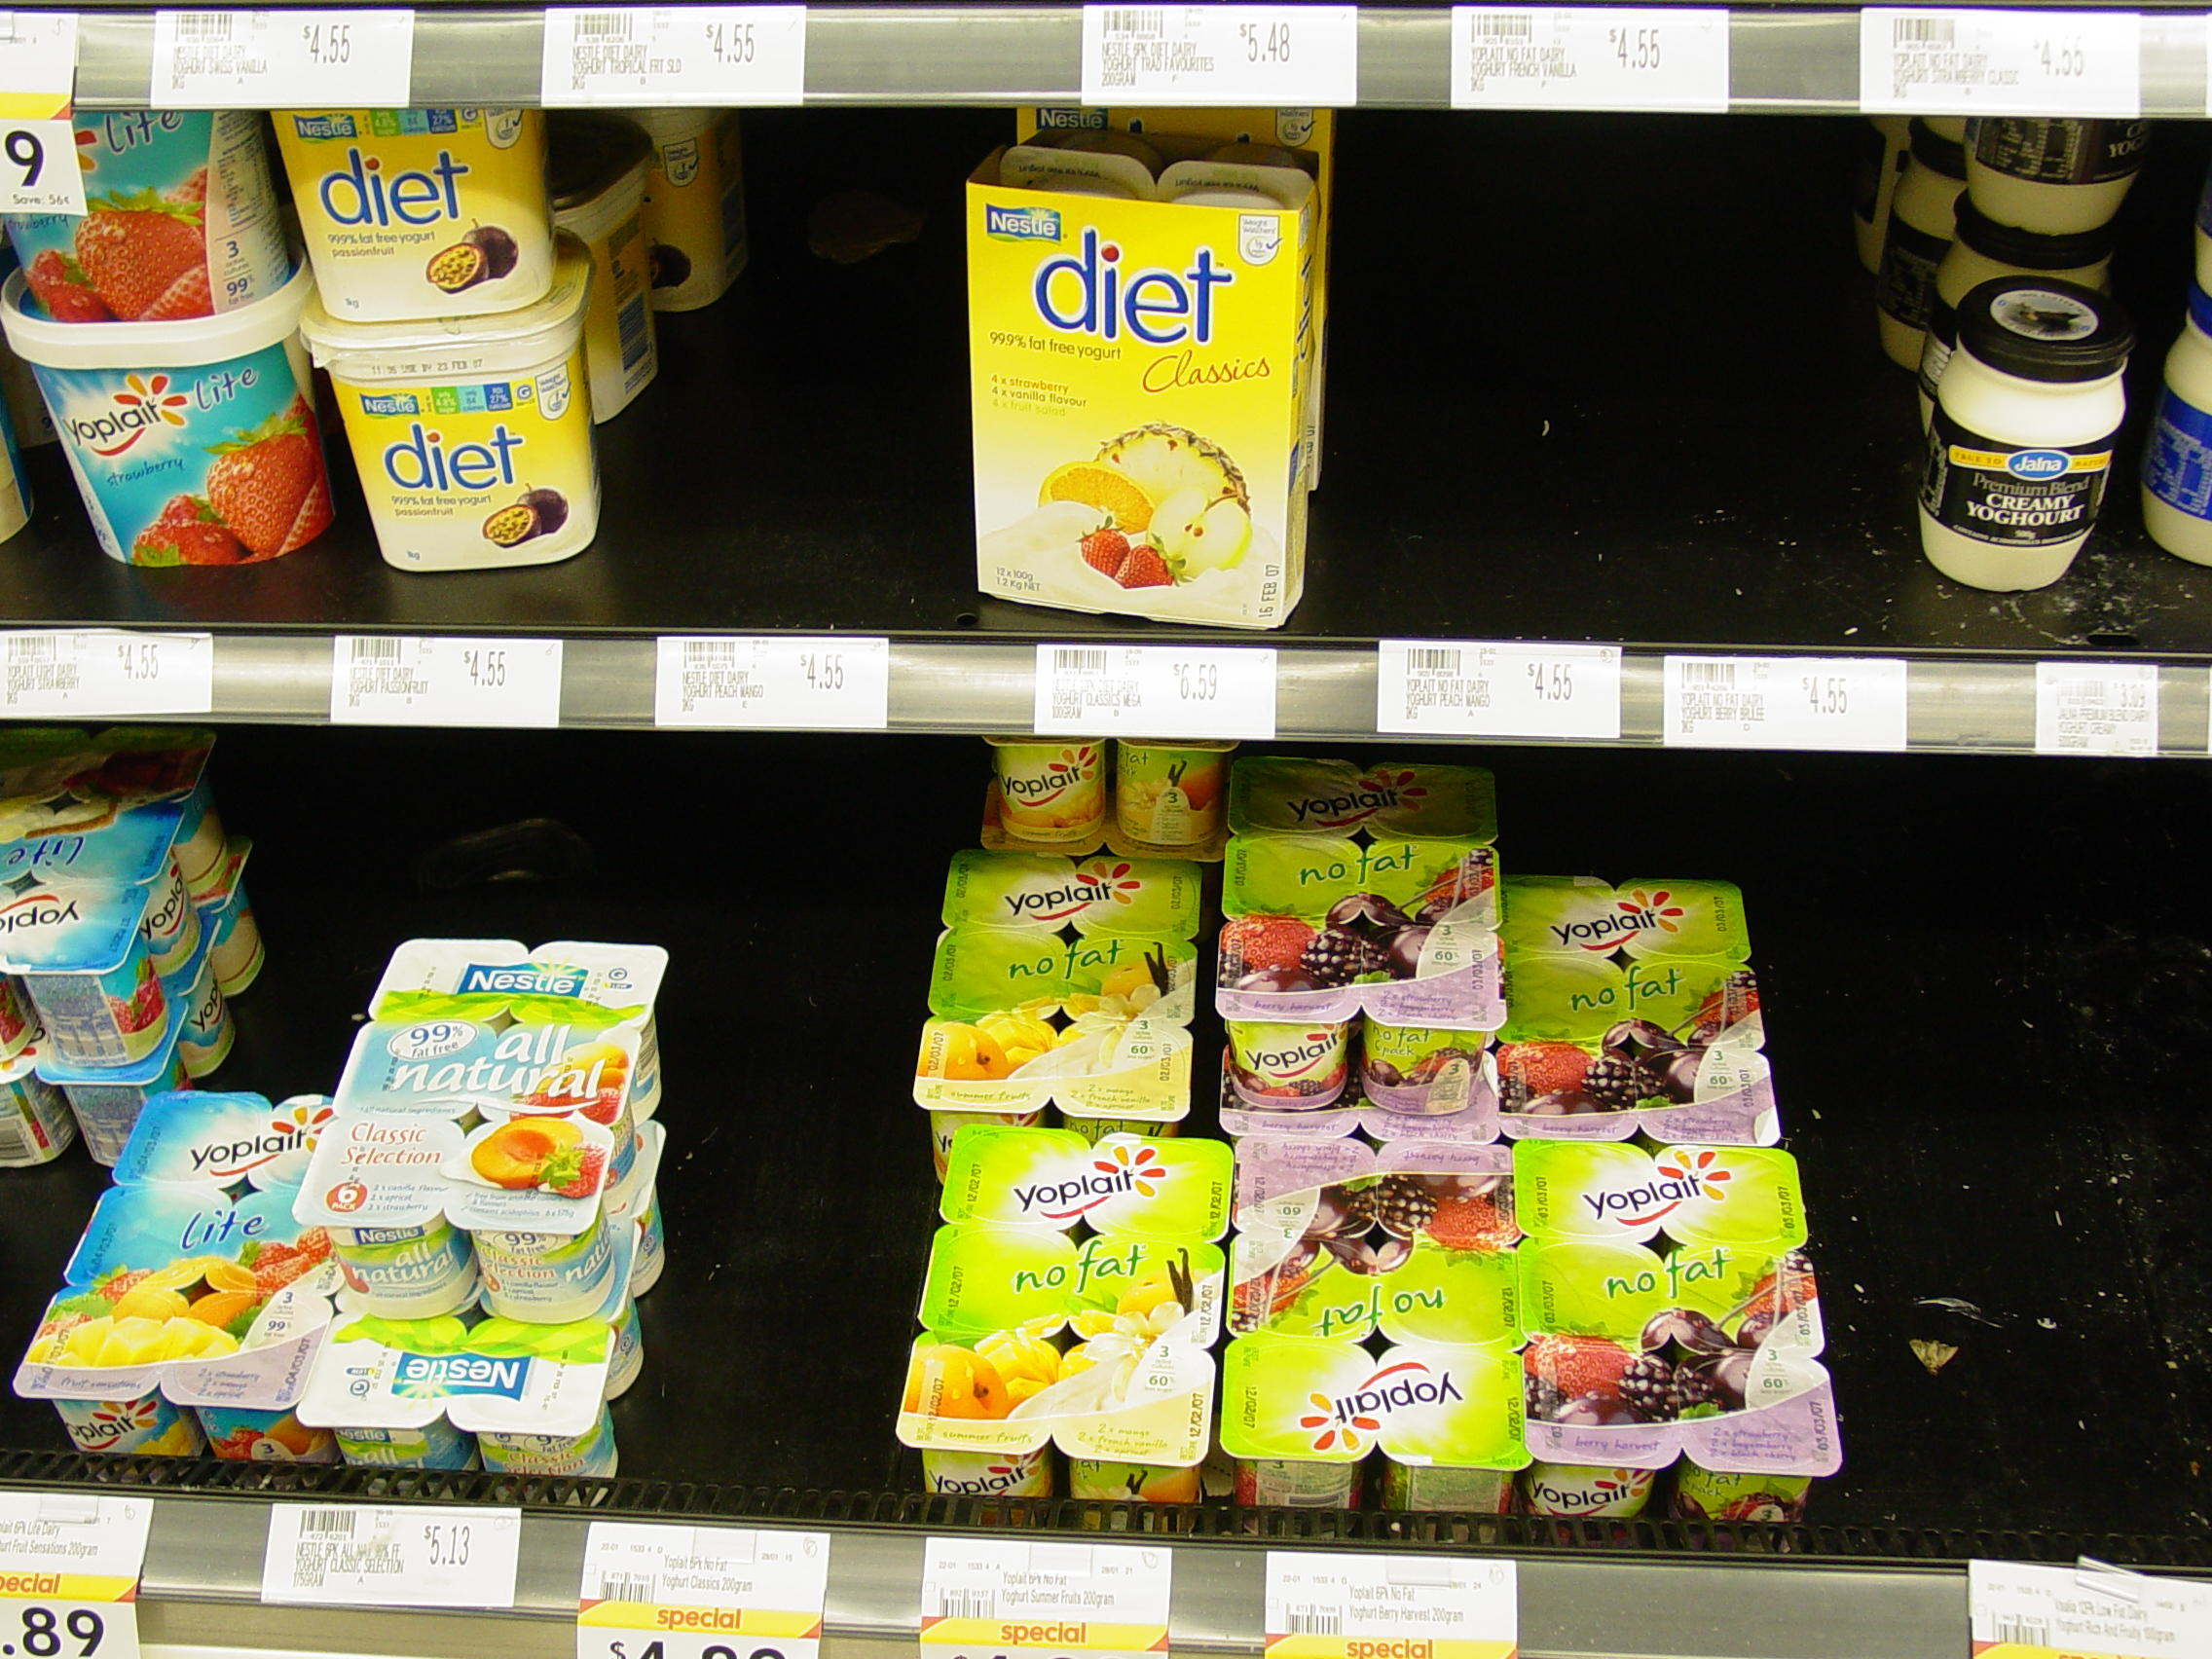Misplacement: (911, 878, 1745, 1467), (31, 983, 653, 1473)
Out-of-stock: (1353, 153, 1864, 624), (629, 125, 944, 619)
